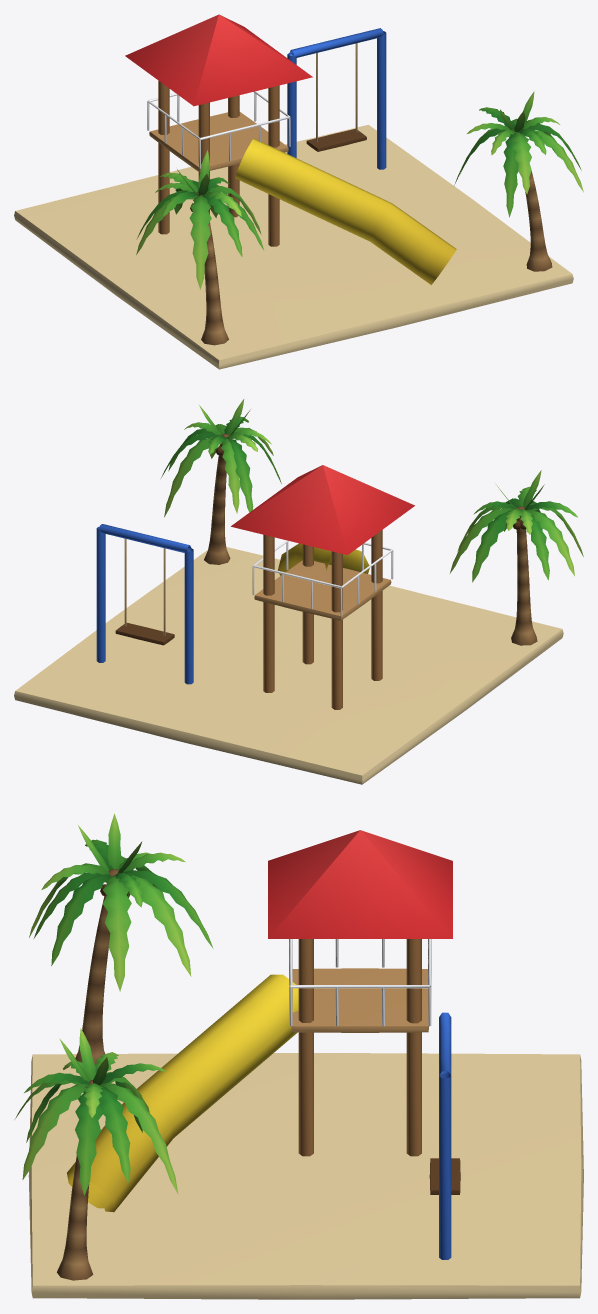
The model's file is Playground.obj.
The picture shows the model from 3 angles, top to bottom: view 1: azimuth 30°, elevation 25°; view 2: azimuth 150°, elevation 25°; view 3: azimuth 270°, elevation 25°; orthographic projection. The views are drawn at different scales.
Visible parts, largest first — view 1: Playground; view 2: Playground; view 3: Playground.
Part boxes in pixels (left/top/right/bottom): Playground: left=14, top=14, right=583, bottom=369; Playground: left=14, top=399, right=583, bottom=784; Playground: left=14, top=813, right=583, bottom=1299.
Bounding box in the file's own units: 4.32 × 2.29 × 3.7.
Materials: 1 (1 with a texture image).
